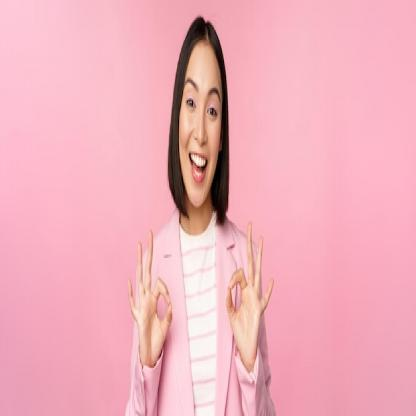ok: (226, 218, 275, 374), (124, 224, 174, 374)
